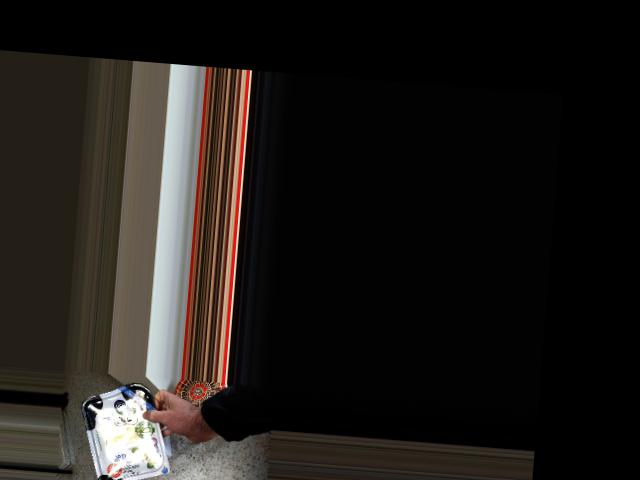cheese: (86, 385, 158, 479)
